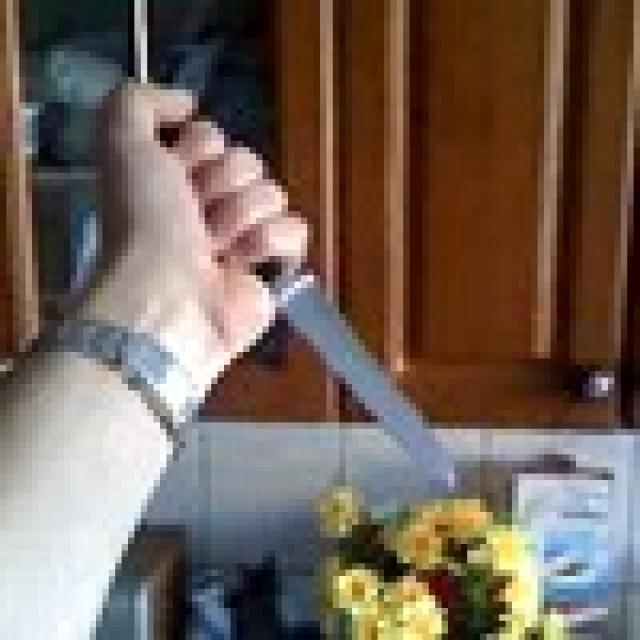Knife: (160, 116, 454, 487)
